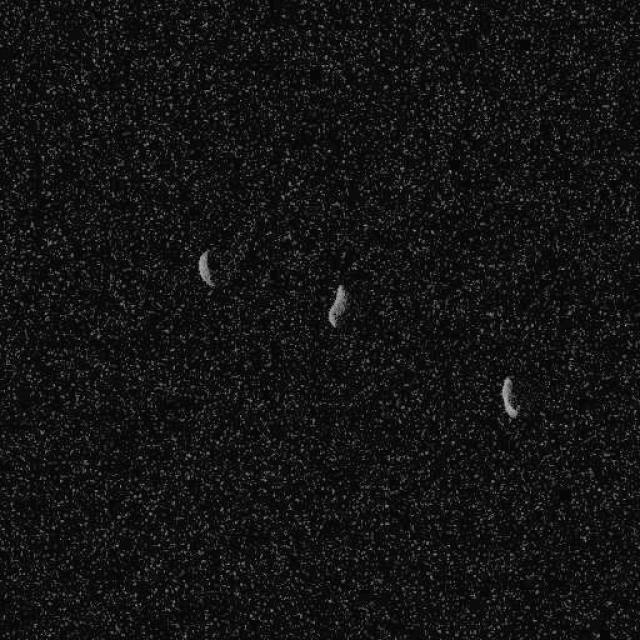D2: (326, 282, 350, 328), (500, 375, 519, 419), (196, 248, 216, 288)
